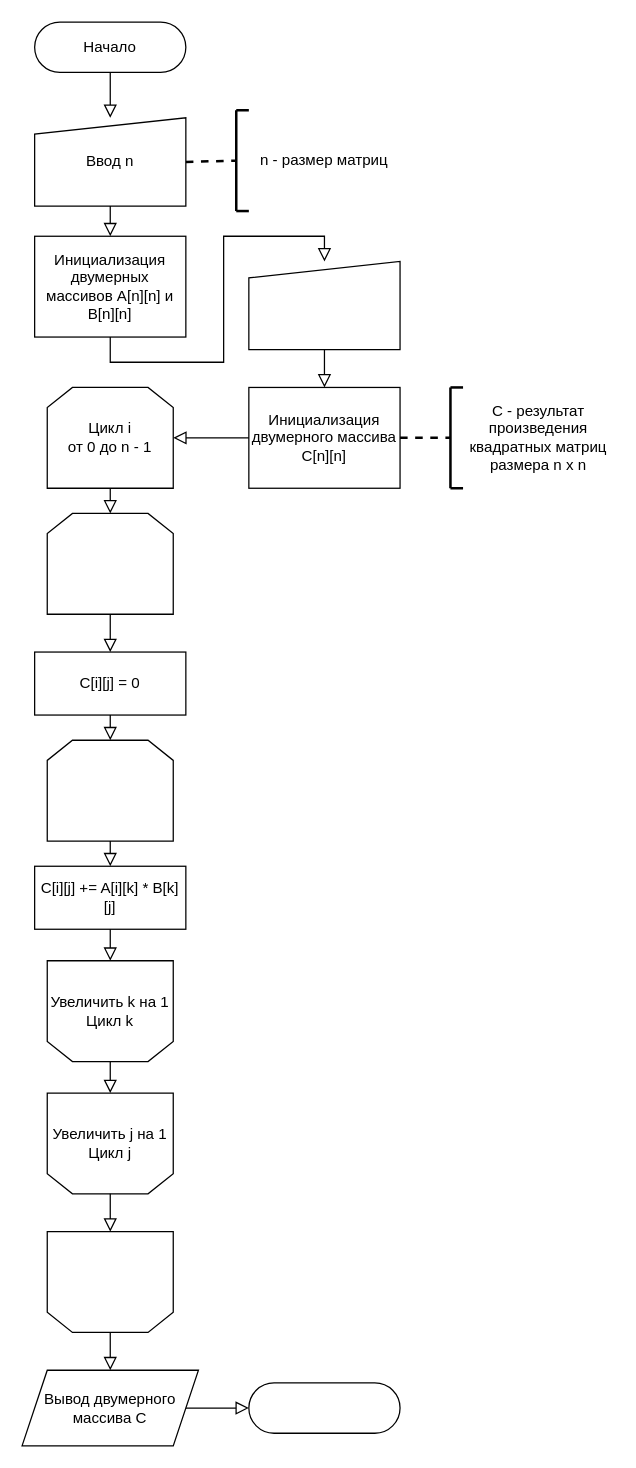
The diagram is 636 pixels wide and 1468 high, and some of its shapes have lost their labels. The shapes that lost their labels are listed below. From the top down, each one's box as (x1, y1, x2, y2) in pixels, then its label:
(248, 260, 400, 350): Заполнение массивов A и B
(46, 512, 173, 614): Цикл j от 0 до n - 1
(46, 739, 173, 841): Цикл k от 0 до n - 1
(46, 1230, 173, 1332): Увеличить i на 1 Цикл i
(248, 1382, 400, 1433): Конец
